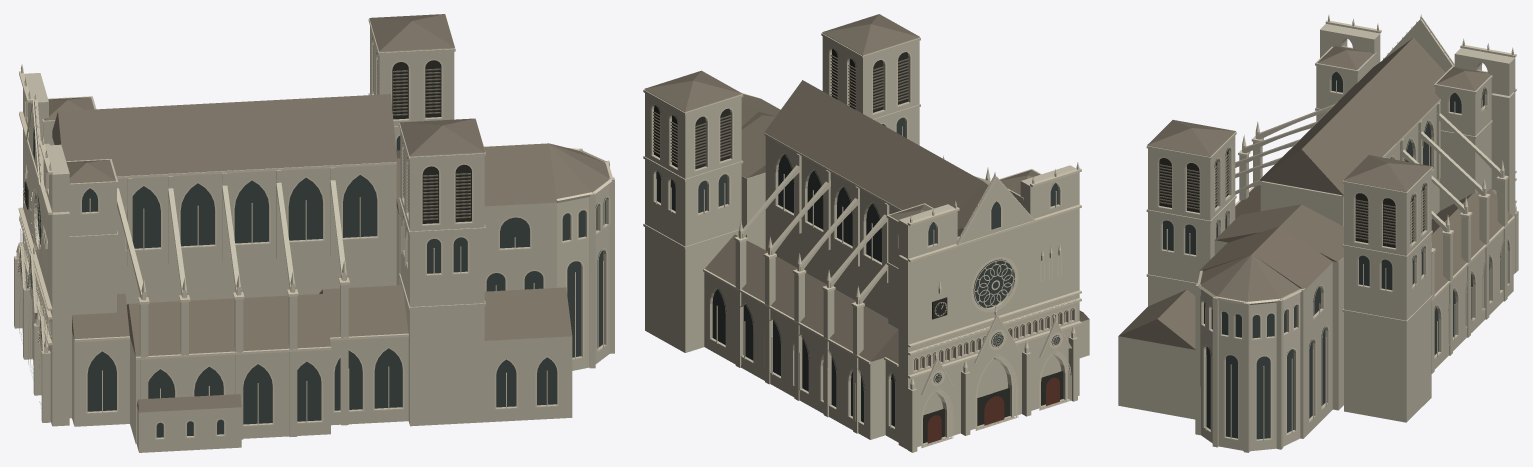
The model's file is cathedrale-saint-jean-lyon-near.glb.
The picture shows the model from 3 angles, left to right: view 1: azimuth 30°, elevation 25°; view 2: azimuth 150°, elevation 25°; view 3: azimuth 270°, elevation 25°; orthographic projection. The views are drawn at different scales.
Parts seen in each view (by area): view 1: cathedrale-saint-jean-lyon-0-stone, cathedrale-saint-jean-lyon-0-roof, cathedrale-saint-jean-lyon-0-glass, cathedrale-saint-jean-lyon-0-trim, cathedrale-saint-jean-lyon-0-recess; view 2: cathedrale-saint-jean-lyon-0-stone, cathedrale-saint-jean-lyon-0-roof, cathedrale-saint-jean-lyon-0-trim, cathedrale-saint-jean-lyon-0-glass, cathedrale-saint-jean-lyon-0-recess, cathedrale-saint-jean-lyon-0-door; view 3: cathedrale-saint-jean-lyon-0-stone, cathedrale-saint-jean-lyon-0-roof, cathedrale-saint-jean-lyon-0-trim, cathedrale-saint-jean-lyon-0-glass, cathedrale-saint-jean-lyon-0-recess.
Boxes of the visible parts, bbox=[...] form: cathedrale-saint-jean-lyon-0-stone: bbox=[14, 18, 614, 452]; cathedrale-saint-jean-lyon-0-roof: bbox=[44, 14, 609, 412]; cathedrale-saint-jean-lyon-0-glass: bbox=[20, 127, 605, 437]; cathedrale-saint-jean-lyon-0-trim: bbox=[16, 36, 612, 439]; cathedrale-saint-jean-lyon-0-recess: bbox=[24, 60, 471, 223]; cathedrale-saint-jean-lyon-0-stone: bbox=[643, 33, 1089, 452]; cathedrale-saint-jean-lyon-0-roof: bbox=[644, 14, 1089, 370]; cathedrale-saint-jean-lyon-0-trim: bbox=[650, 47, 1081, 448]; cathedrale-saint-jean-lyon-0-glass: bbox=[656, 117, 1060, 426]; cathedrale-saint-jean-lyon-0-recess: bbox=[654, 48, 1063, 443]; cathedrale-saint-jean-lyon-0-door: bbox=[927, 377, 1059, 443]; cathedrale-saint-jean-lyon-0-stone: bbox=[1118, 19, 1518, 452]; cathedrale-saint-jean-lyon-0-roof: bbox=[1119, 37, 1512, 349]; cathedrale-saint-jean-lyon-0-trim: bbox=[1157, 14, 1516, 441]; cathedrale-saint-jean-lyon-0-glass: bbox=[1163, 71, 1500, 439]; cathedrale-saint-jean-lyon-0-recess: bbox=[1159, 148, 1424, 247].
Bounding box in the file's own units: 84.2 × 44 × 66.11.
